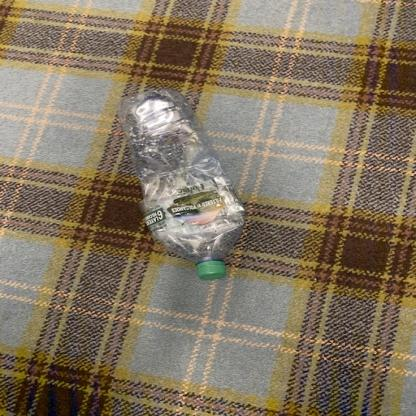trash: (113, 93, 250, 280)
